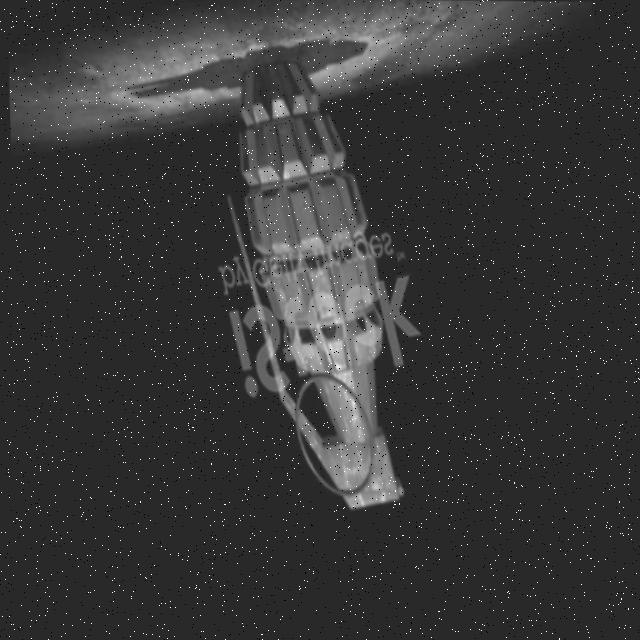grenade: (188, 36, 443, 539)
